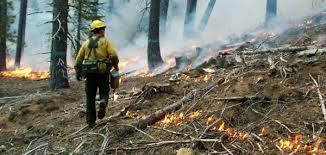fire: (160, 110, 326, 155), (2, 61, 52, 85)
